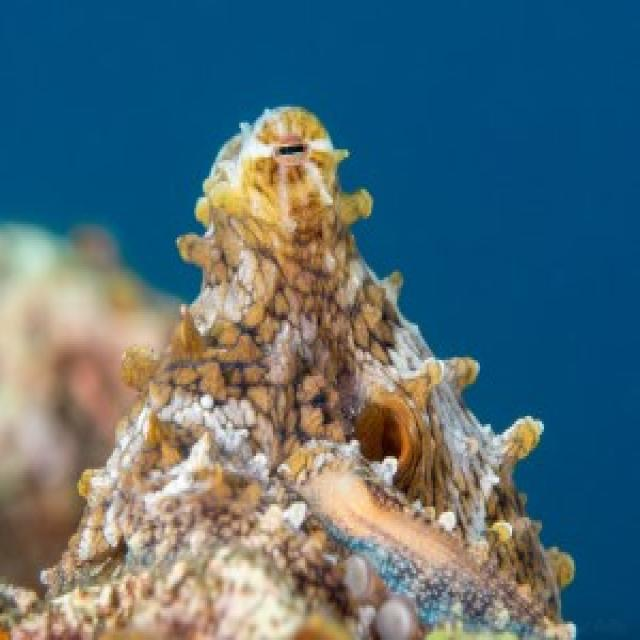Octo: (74, 104, 563, 640)
